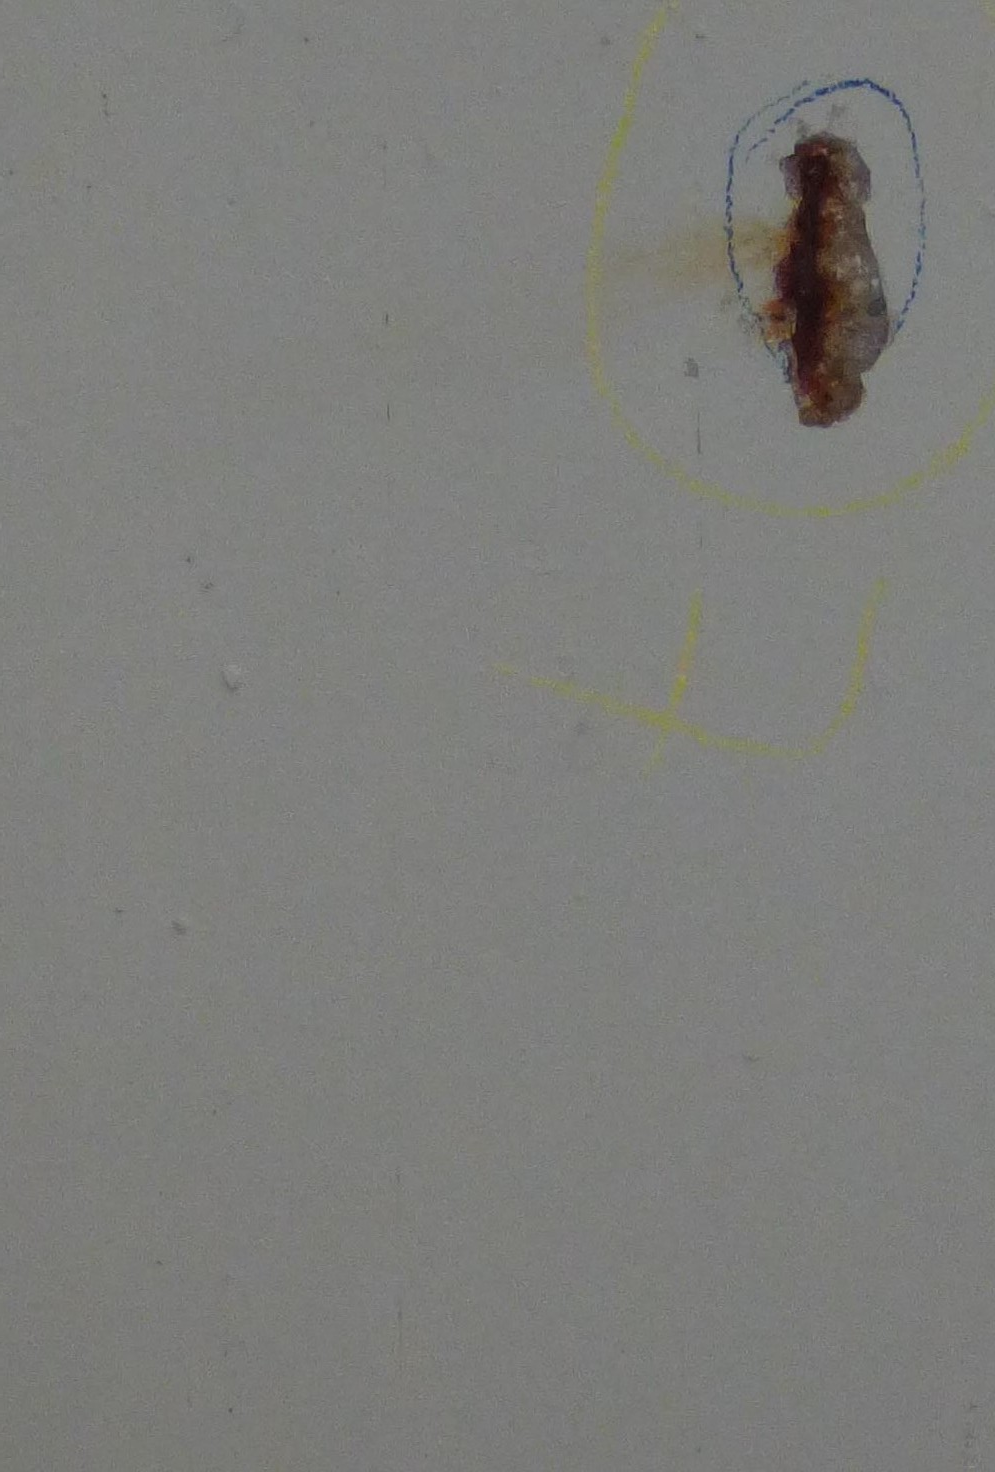Exposed reinforcement: (795, 153, 826, 370)
Spalling: (758, 130, 891, 429)
